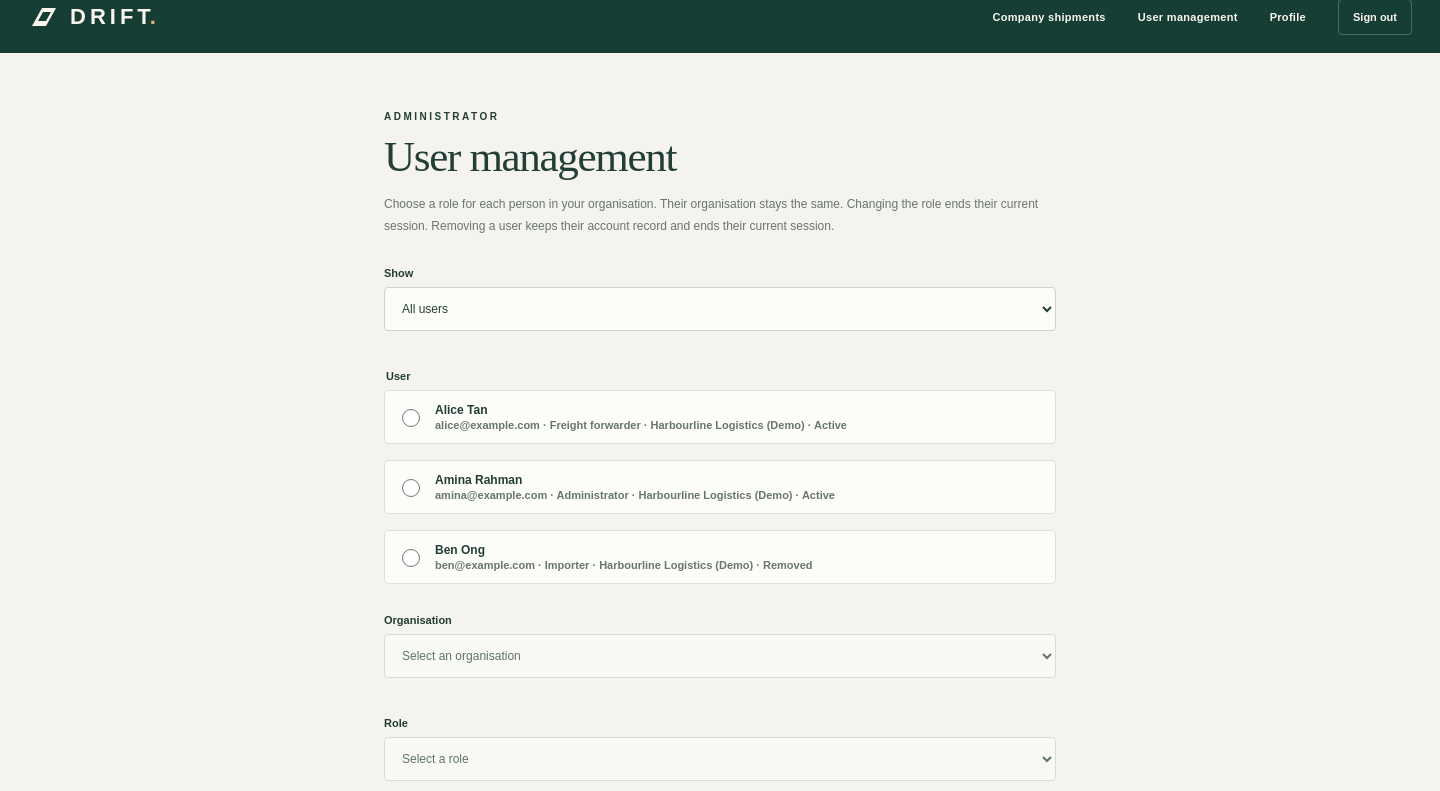
account removal › ends the session when removal returns 401
Click the radio button labelled "Alice Tan" at (411, 418), box x1=402 y1=409 x2=420 y2=427
(page scrolled)
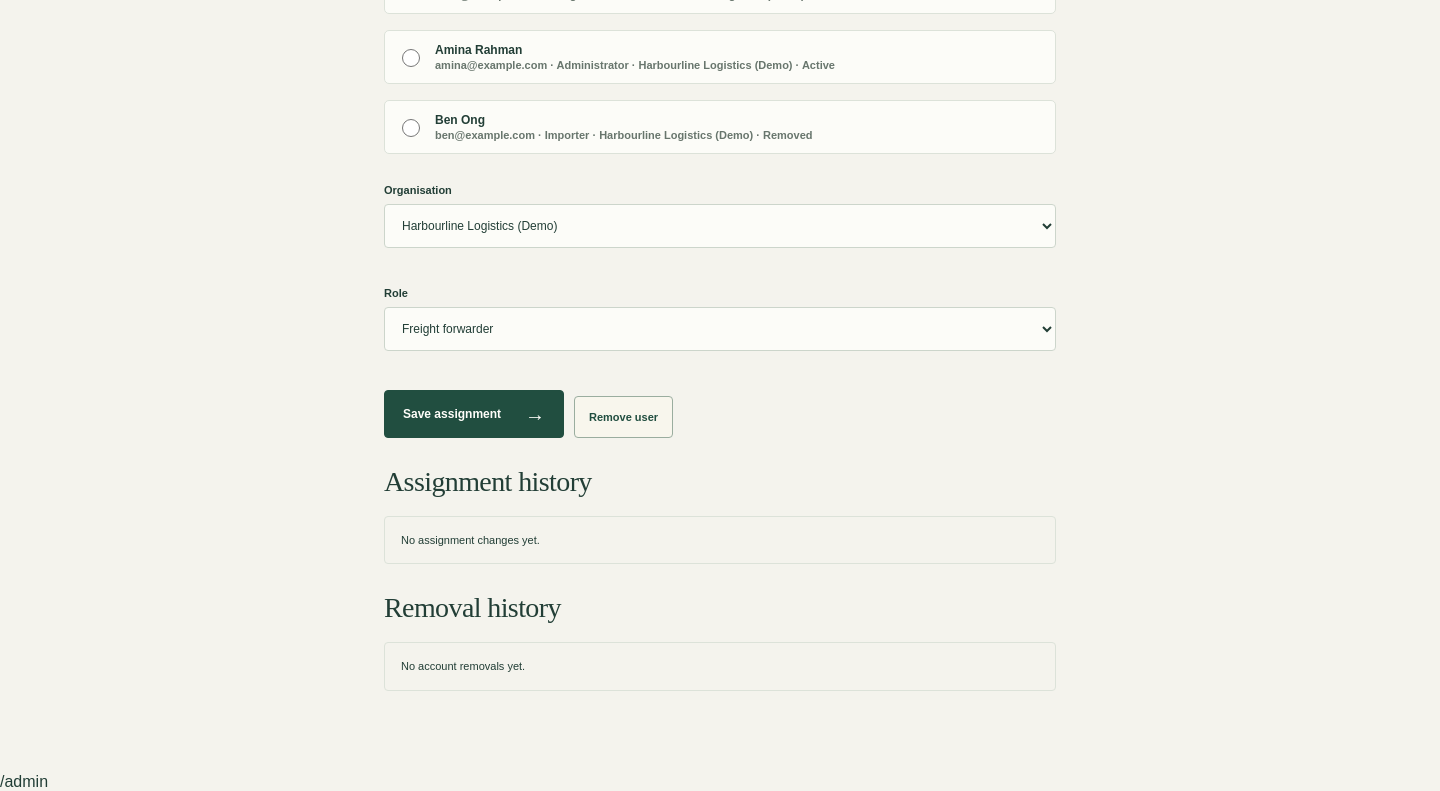
Click the button named "Remove Alice Tan" at (624, 417), box x1=574 y1=396 x2=673 y2=438
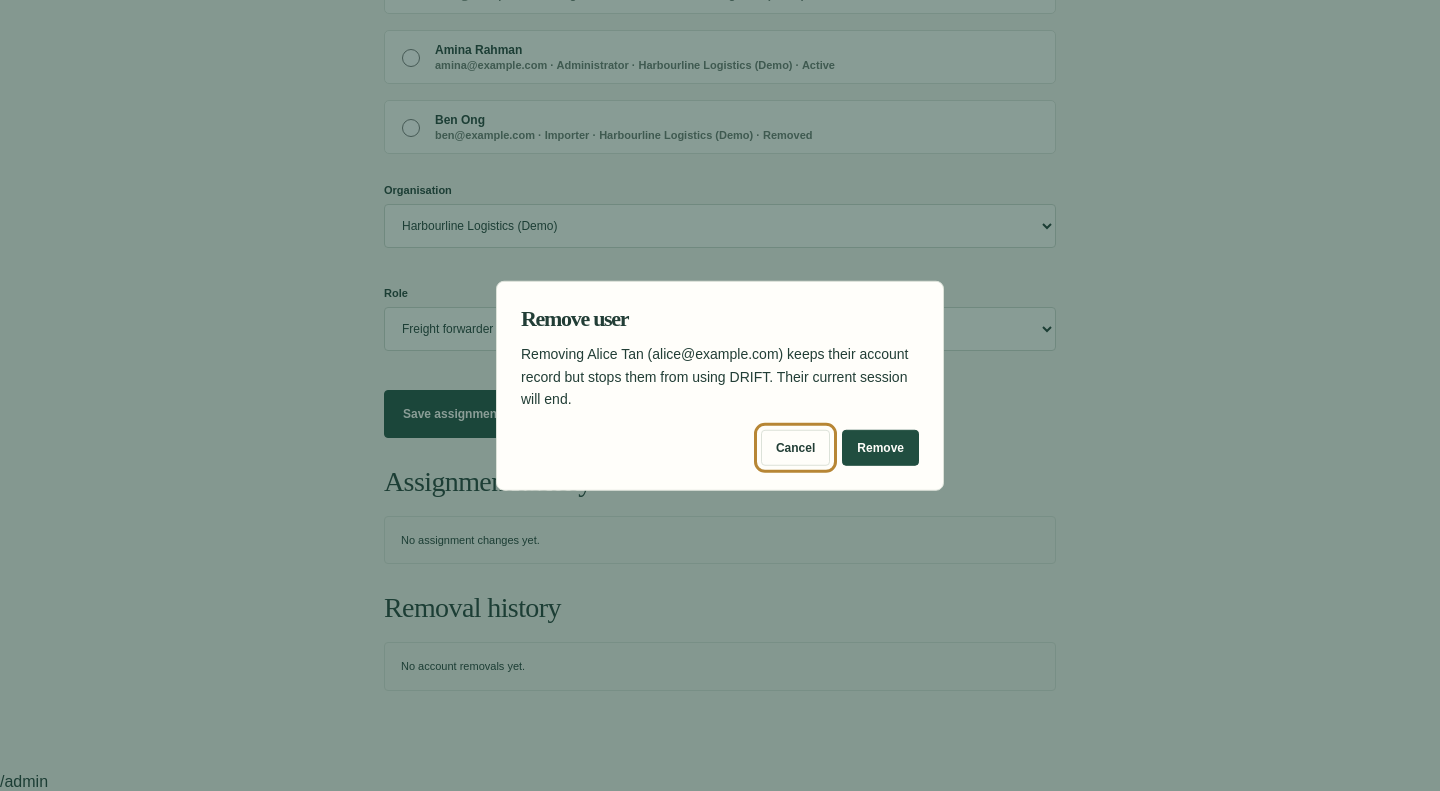
Click the button "Remove" at (881, 448), box x1=842 y1=430 x2=919 y2=466
(page scrolled)
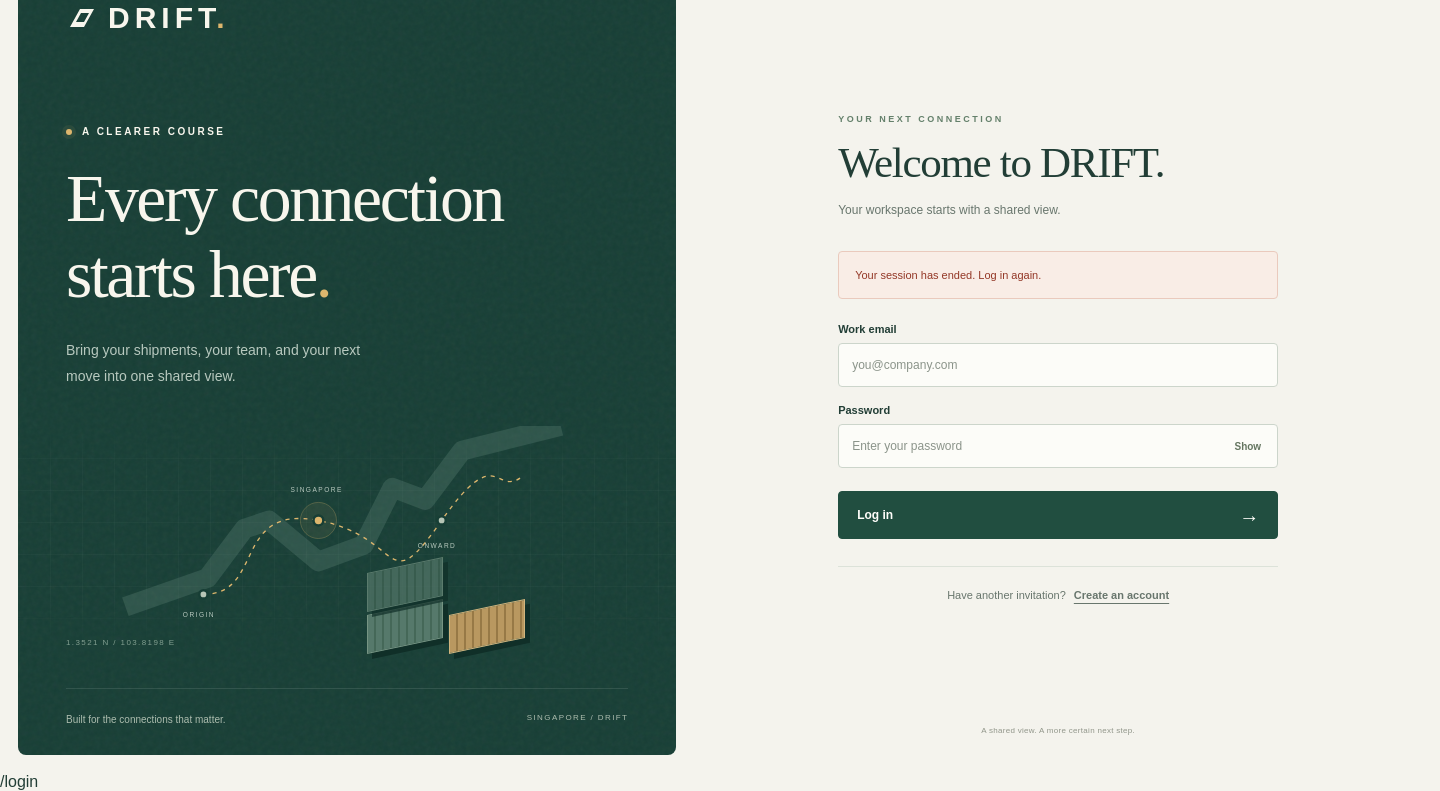
Result: the message reads "Your session has ended. Log in again." at x1=855 y1=269 x2=1041 y2=281
Result: the text with test id "location" reads "/login" at x1=0 y1=773 x2=38 y2=790
